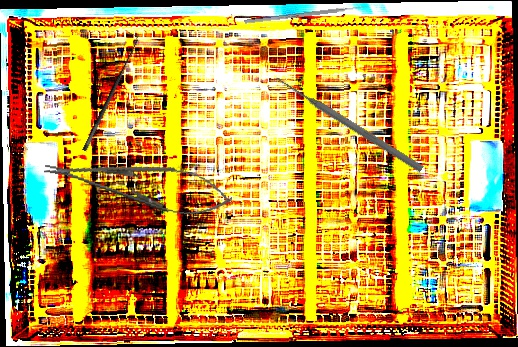Hook Surgical: (73, 31, 143, 153)
Needle Holder: (40, 144, 236, 224)
Pusher: (273, 73, 425, 174), (244, 4, 372, 24)
